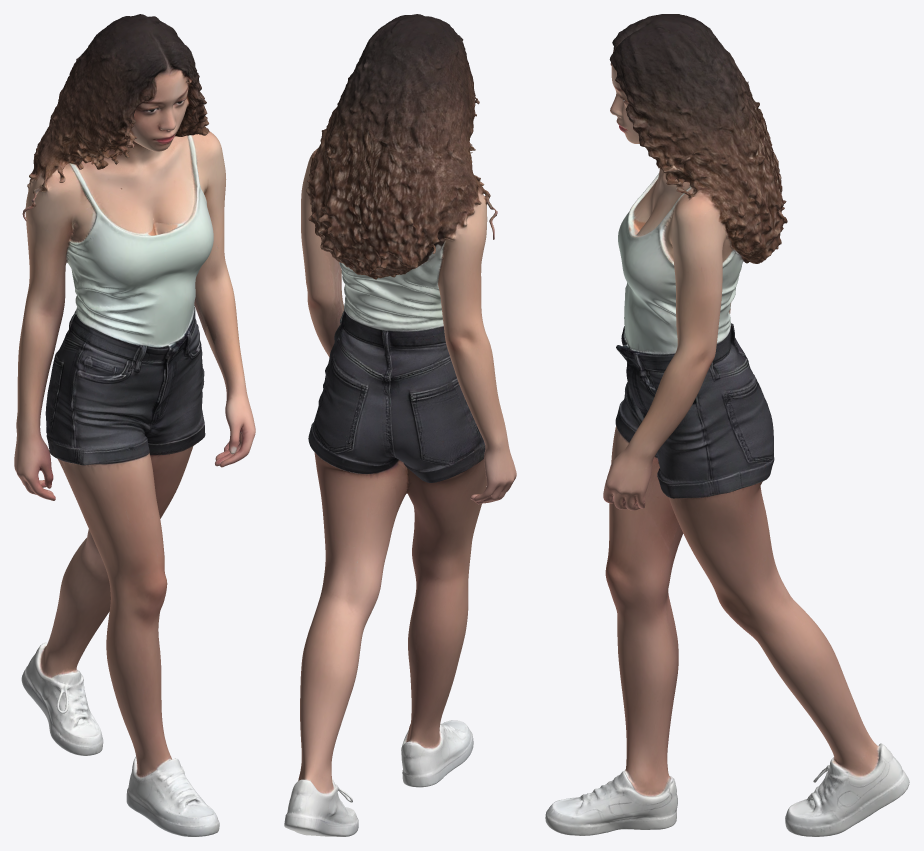
File: person-mint.glb
3 renders of one model, left to right at view 1: azimuth 30°, elevation 25°; view 2: azimuth 150°, elevation 25°; view 3: azimuth 270°, elevation 25°, orthographic. The views are drawn at different scales.
Visible parts, largest first — view 1: mesh_0; view 2: mesh_0; view 3: mesh_0.
Boxes of the visible parts, left/top/right/bottom form: mesh_0: left=14, top=14, right=255, bottom=836; mesh_0: left=284, top=14, right=516, bottom=836; mesh_0: left=545, top=14, right=909, bottom=836.
Bounding box in the file's own units: 0.5359 × 1.9 × 0.7775.
1 material, 1 textured.
